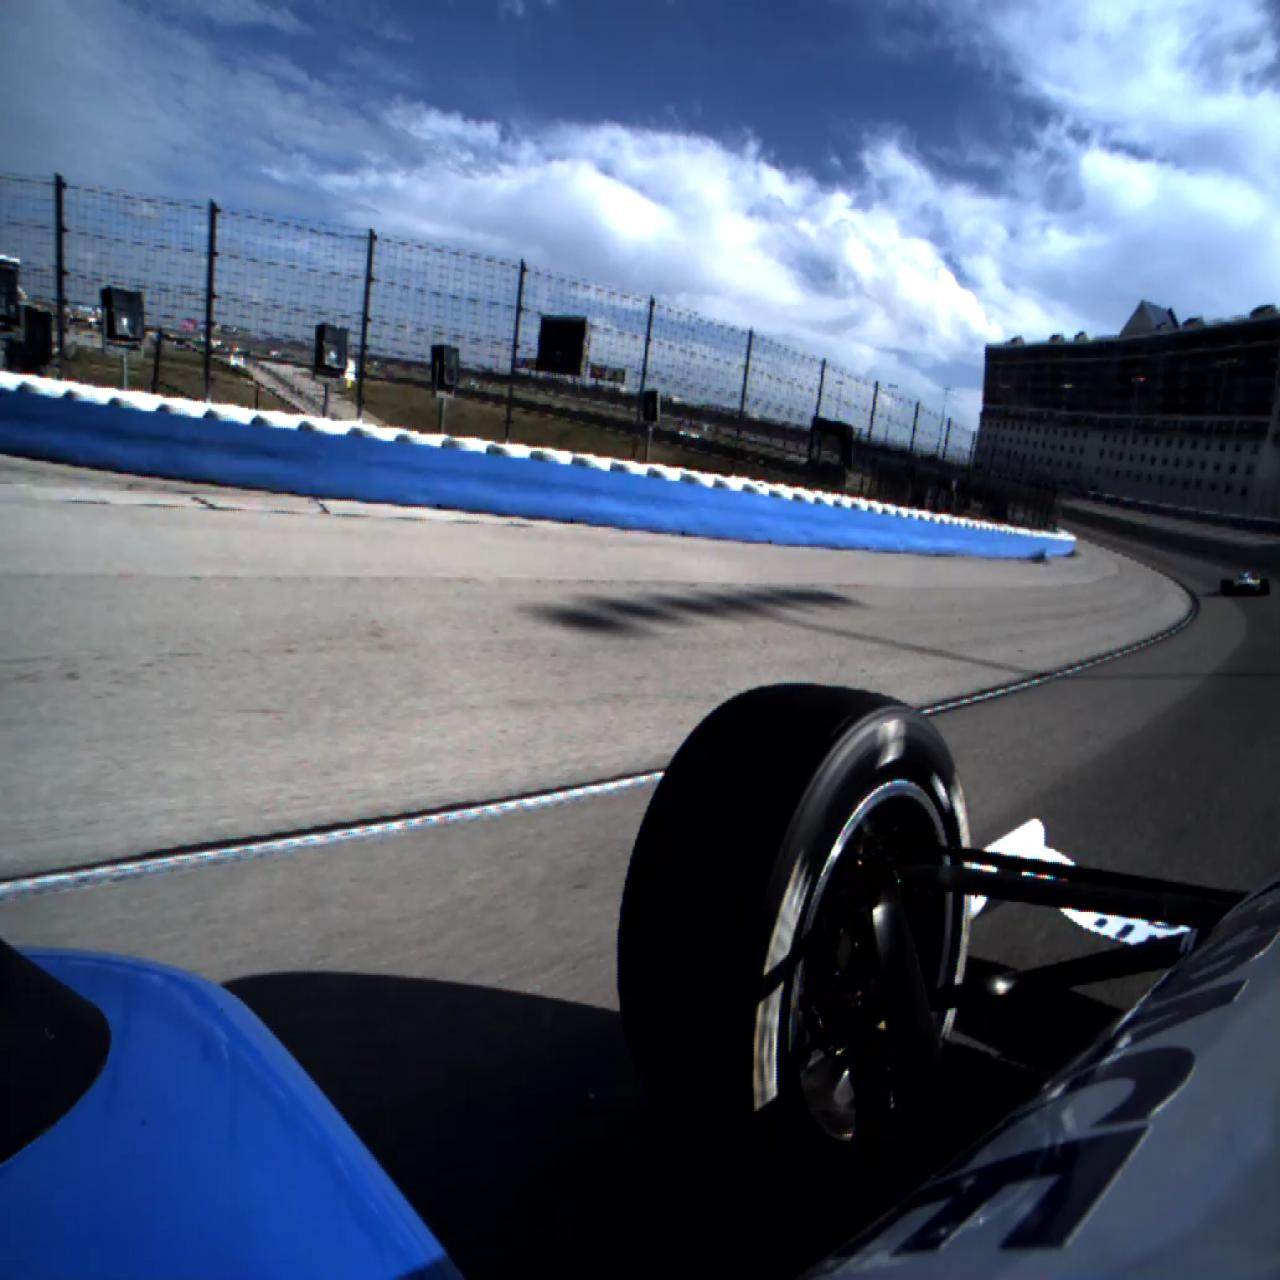AV: (1219, 566, 1271, 599)
Wheel: (618, 682, 974, 1197), (1220, 578, 1233, 598), (1260, 578, 1269, 595)
